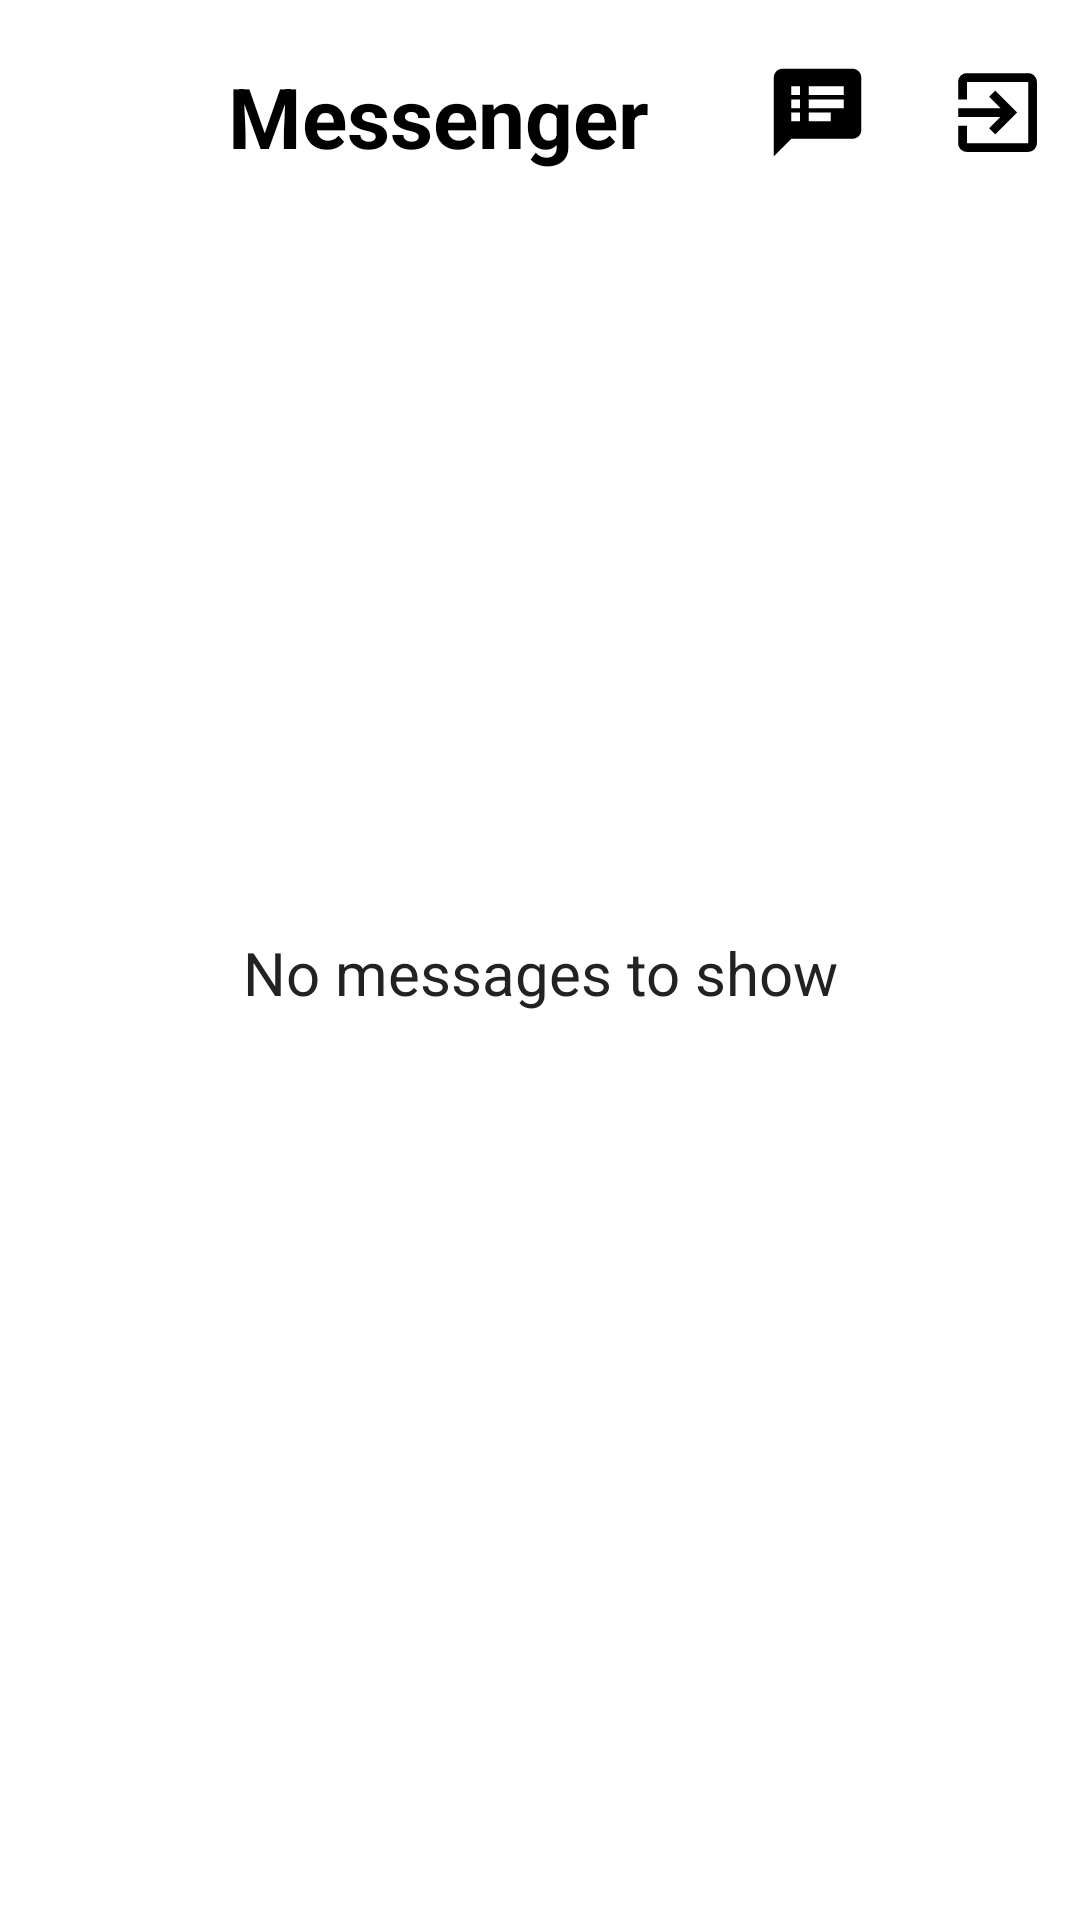

Named icons in this screenshot (1080*1920) and their bounding boxes, (x1, y1, x2, y2):
message: (773, 68, 862, 156)
sign out: (958, 73, 1037, 152)
